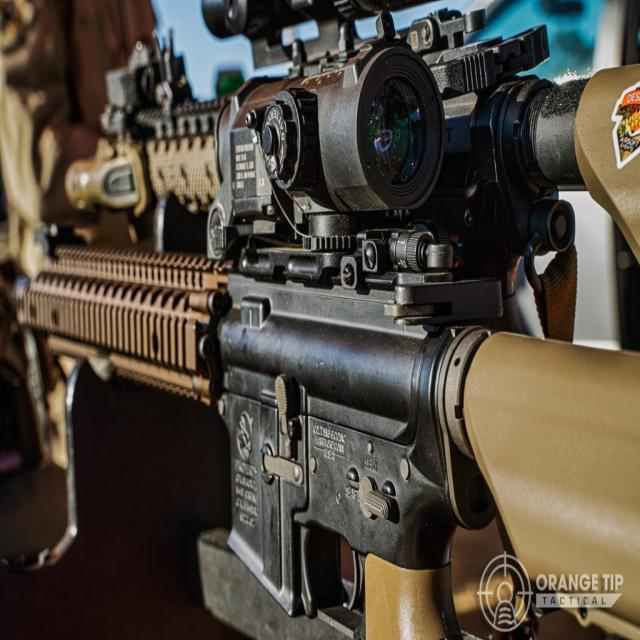Rifle: (20, 48, 640, 640)
